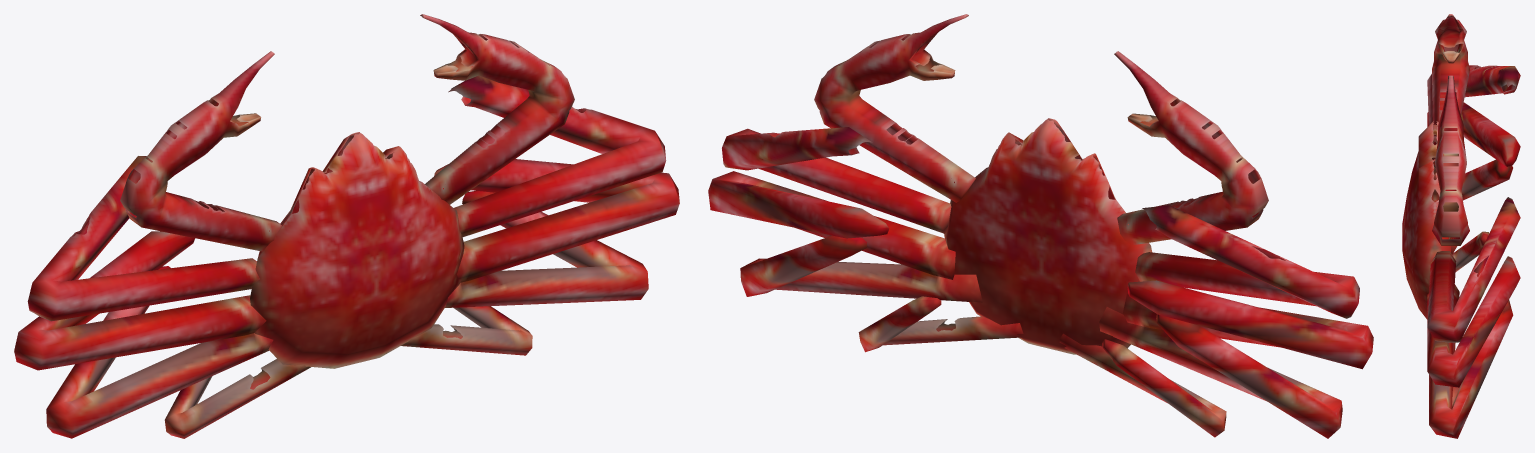
The model's file is snow_crab.FBX.
3 views of the same model, side by side, from view 1: azimuth 30°, elevation 25°; view 2: azimuth 150°, elevation 25°; view 3: azimuth 270°, elevation 25° (orthographic). The views are drawn at different scales.
Visible parts, largest first — view 1: snow_crab; view 2: snow_crab; view 3: snow_crab.
Part boxes in pixels (bbox=[...]): snow_crab: bbox=[14, 14, 679, 438]; snow_crab: bbox=[708, 14, 1373, 438]; snow_crab: bbox=[1402, 14, 1520, 438].
Bounding box in the file's own units: 108 × 56 × 20.03.
